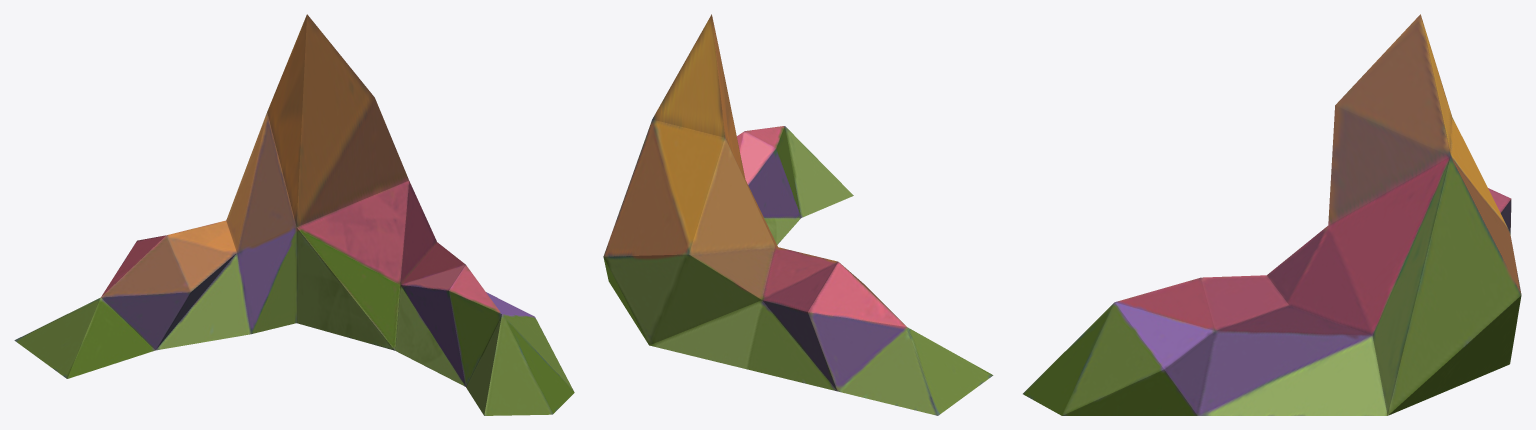
File: wall_corner_cap_deco1.fbx
3 views of the same model, side by side, from view 1: azimuth 30°, elevation 25°; view 2: azimuth 150°, elevation 25°; view 3: azimuth 270°, elevation 25° (orthographic). The views are drawn at different scales.
Visible parts, largest first — view 1: wall_corner_cap_deco1; view 2: wall_corner_cap_deco1; view 3: wall_corner_cap_deco1.
Part boxes in pixels (<box>): wall_corner_cap_deco1: <box>14,14,574,415</box>; wall_corner_cap_deco1: <box>603,14,993,415</box>; wall_corner_cap_deco1: <box>1023,14,1521,415</box>.
Size of the model in its own units: 0.0405 by 0.0305 by 0.0408.
